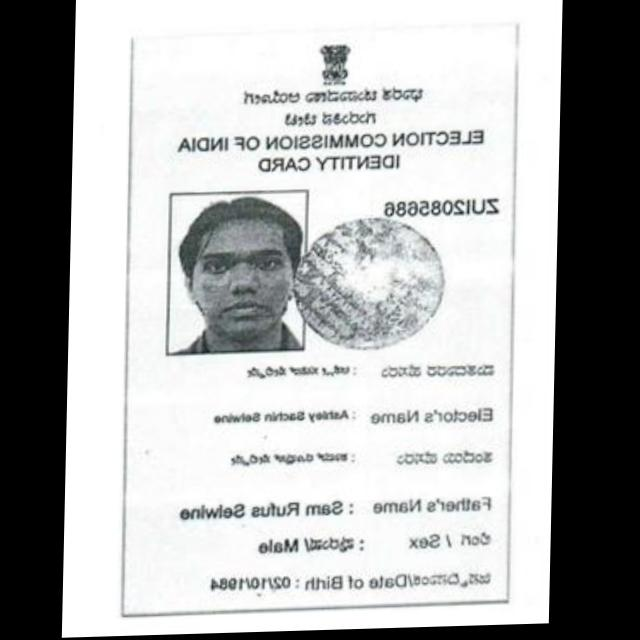voter_id: (119, 18, 528, 624)
